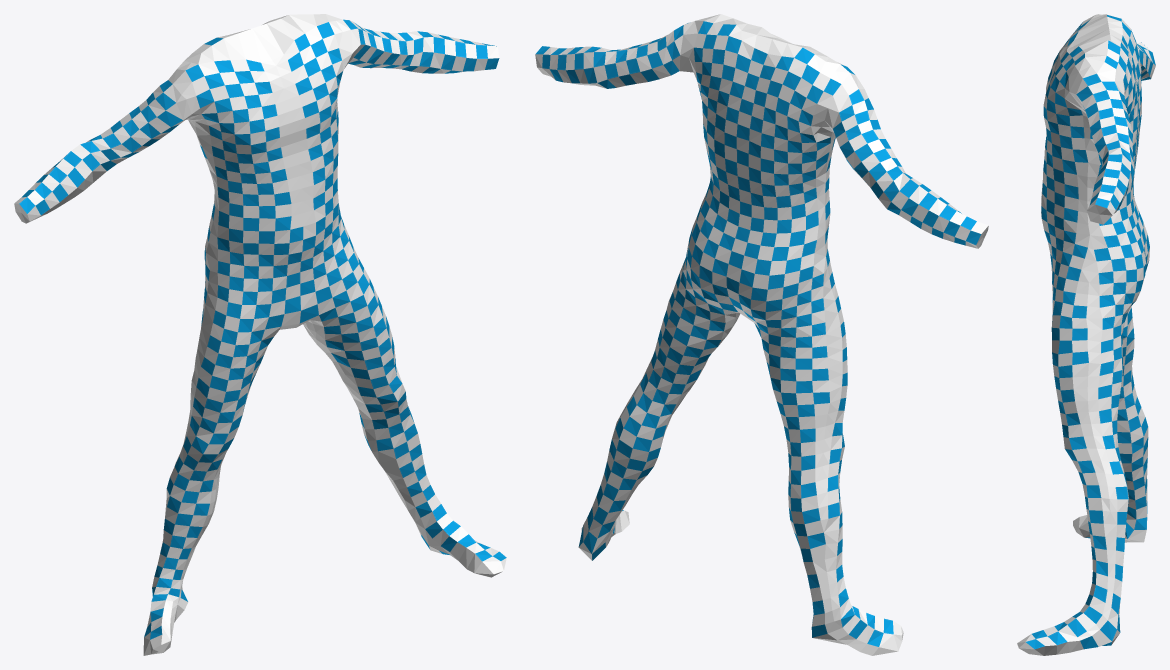
Rendered from Complete_QuadOnly.obj.
3 renders of one model, left to right at view 1: azimuth 30°, elevation 25°; view 2: azimuth 150°, elevation 25°; view 3: azimuth 270°, elevation 25°, orthographic. The views are drawn at different scales.
Size of the model in its own units: 1224 by 1505 by 336.
Materials: 1 (1 with a texture image).
